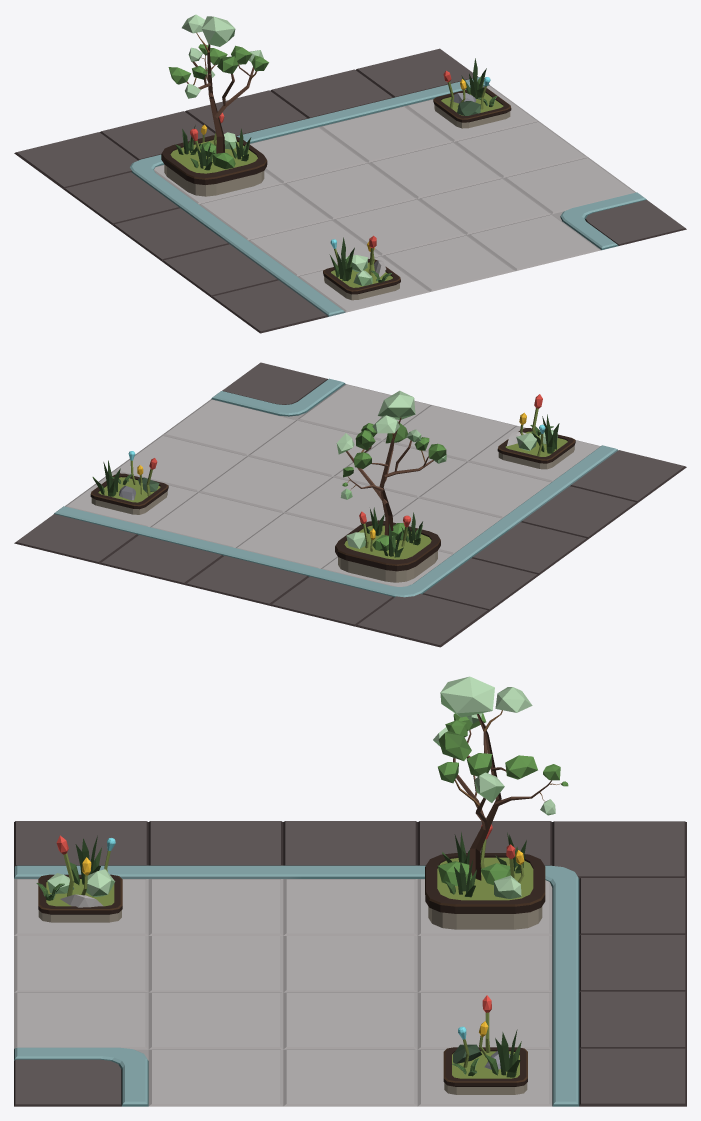
File: Corner_B.glb
3 views of the same model, one above another, from view 1: azimuth 30°, elevation 25°; view 2: azimuth 150°, elevation 25°; view 3: azimuth 270°, elevation 25° (orthographic). The views are drawn at different scales.
Parts seen in each view (by area): view 1: Corner_B, Tree_01.016, Cube.271, Cube.264, Cube.265, Grass_03.615; view 2: Corner_B, Tree_01.016, Cube.271, Cube.264, Cube.265; view 3: Corner_B, Tree_01.016, Cube.271, Cube.264, Cube.265, Grass_03.614.
Boxes of the visible parts, x1,y1,x2,y2 form: Corner_B: (14,48,686,333); Tree_01.016: (168,14,268,153); Cube.271: (161,135,267,196); Cube.264: (433,87,511,128); Cube.265: (323,259,400,300); Grass_03.615: (329,237,354,281); Corner_B: (14,362,686,647); Tree_01.016: (336,390,446,535); Cube.271: (335,520,440,582); Cube.264: (90,473,168,514); Cube.265: (497,428,575,469); Corner_B: (14,821,686,1106); Tree_01.016: (433,676,568,880); Cube.271: (425,853,545,929); Cube.264: (443,1047,527,1094); Cube.265: (38,874,122,922); Grass_03.614: (485,1029,521,1077).
Size of what is drawn, in the model's own units: 16 by 5.93 by 16.
Materials: 1 (1 with a texture image).
